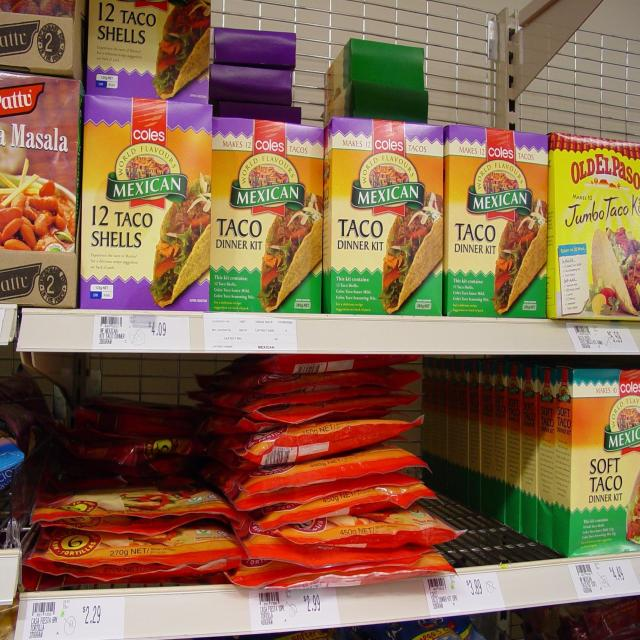empty_space: (434, 377, 536, 560)
